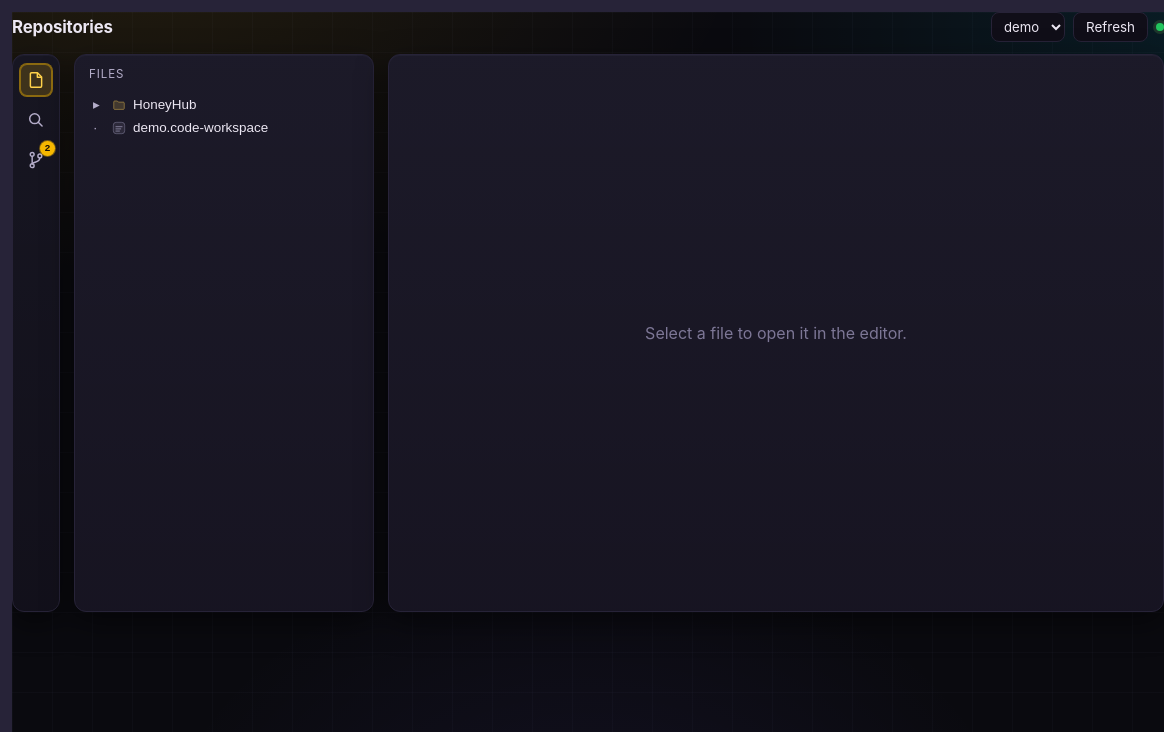
Test: RepositoriesView › renders the explorer tree and the source-control changes for the folder
The width and height of the screenshot is (1164, 732).
Expected: the heading "Repositories" is shown, x1=12 y1=17 x2=113 y2=37
Expected: the text "Files" is shown, x1=89 y1=67 x2=124 y2=81
Step 1. Click the button named "Source control" → (36, 160), box x1=19 y1=143 x2=53 y2=177
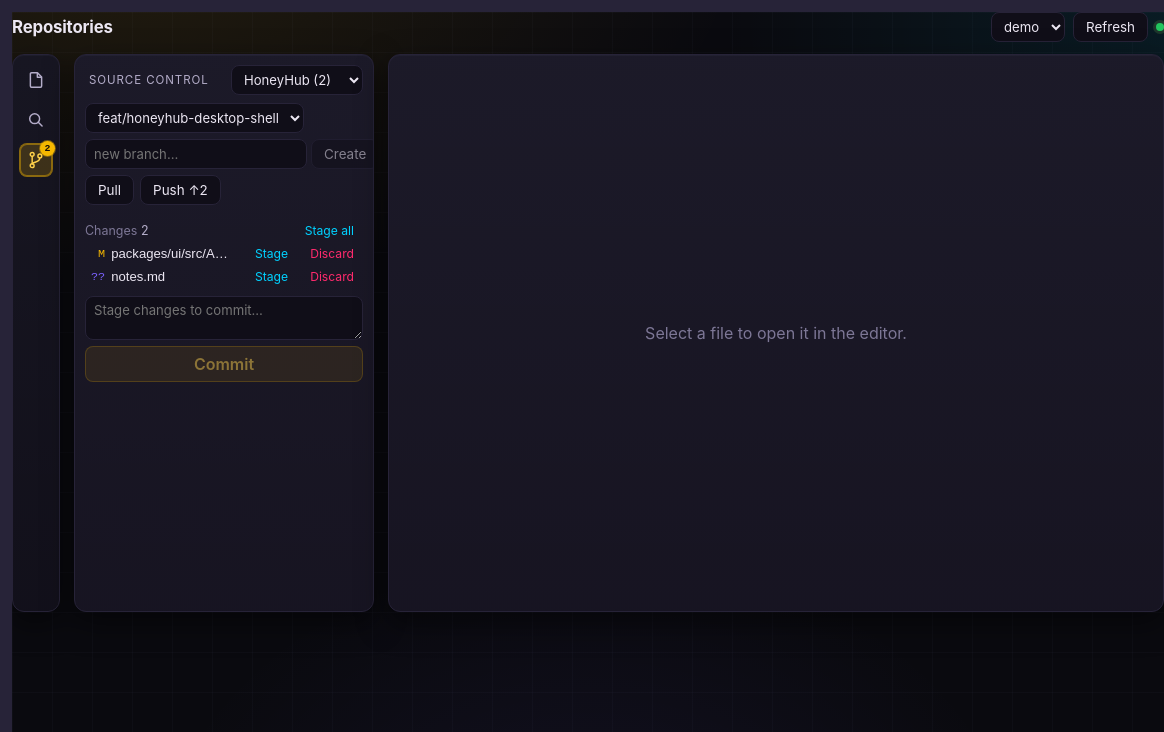
Expected: the text "Source control" is shown, x1=89 y1=73 x2=209 y2=87
Expected: the text "Files" is gone
Expected: the text "packages/ui/src/App.tsx" is shown, x1=111 y1=246 x2=234 y2=261
